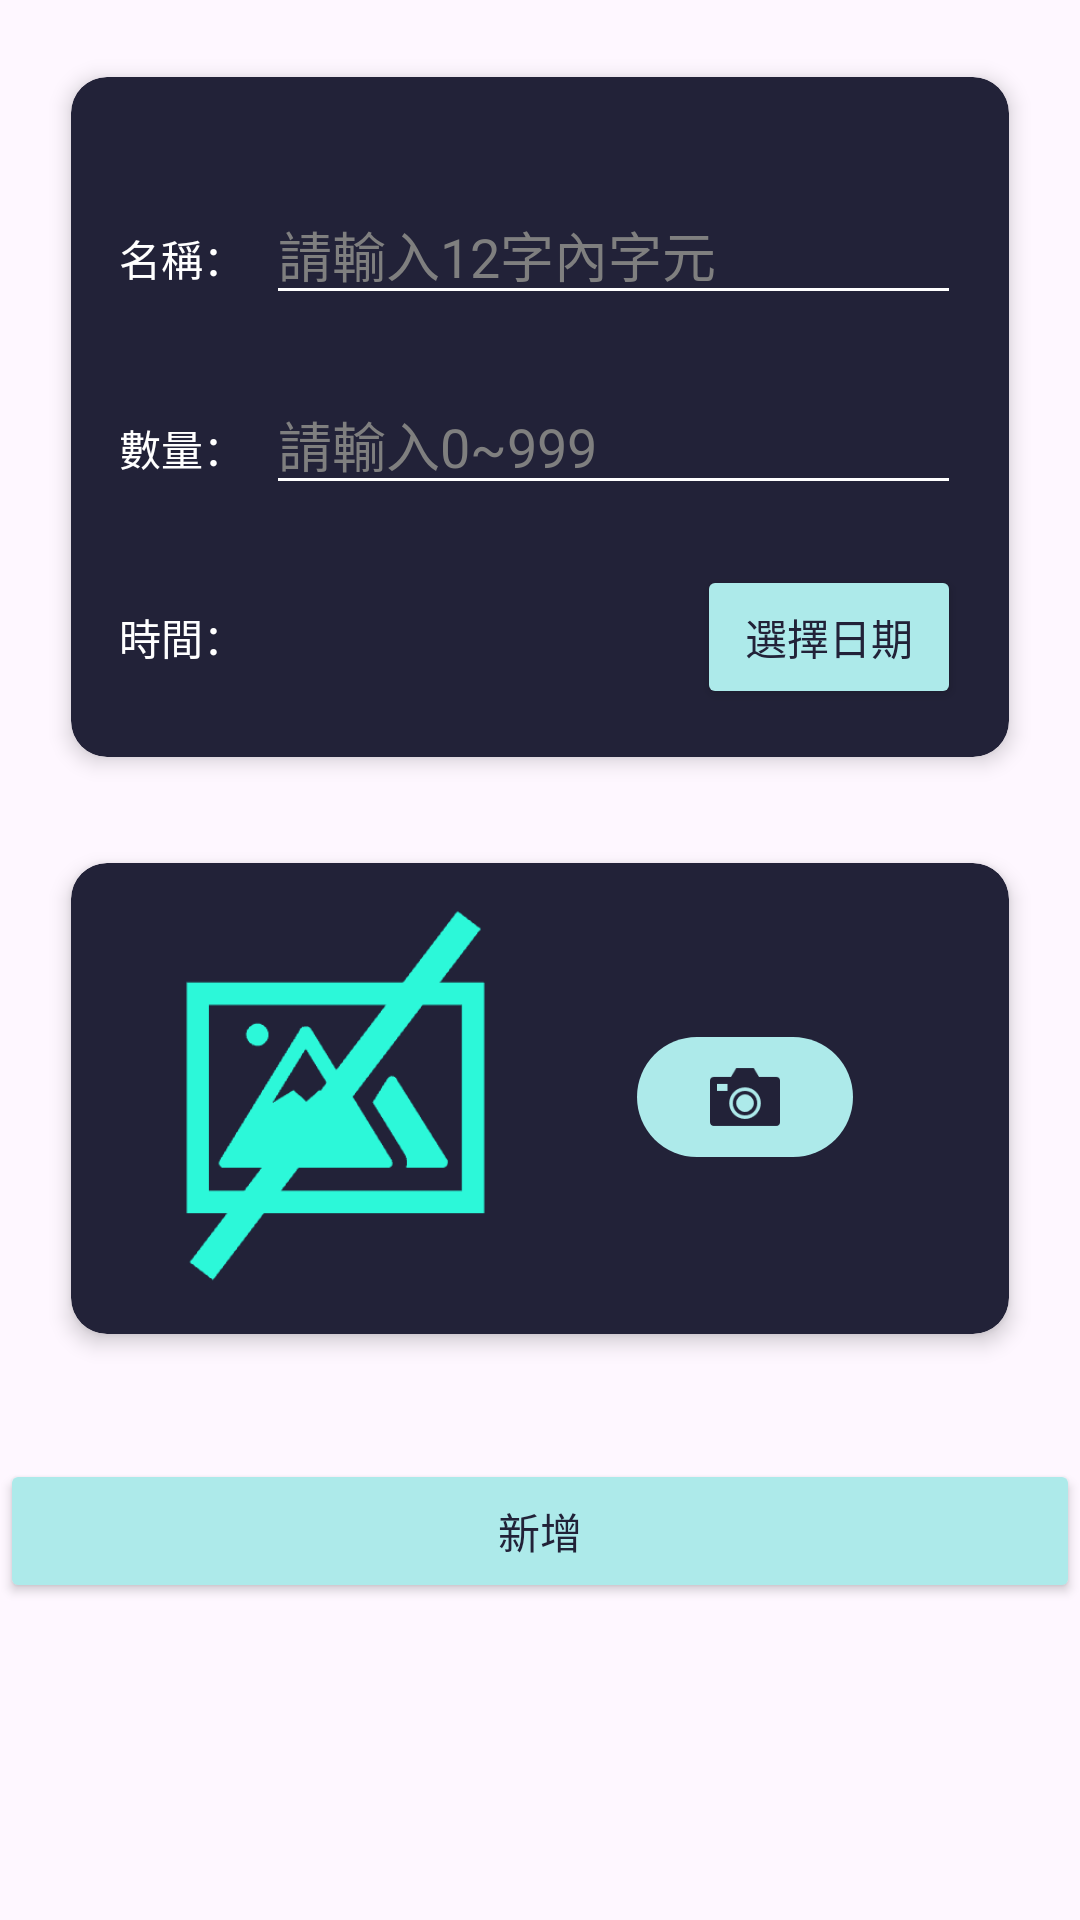

Screen size 1080w x 1920h. Icon name, then its center in pixels as [x,y]:
camera: [745,1097]
